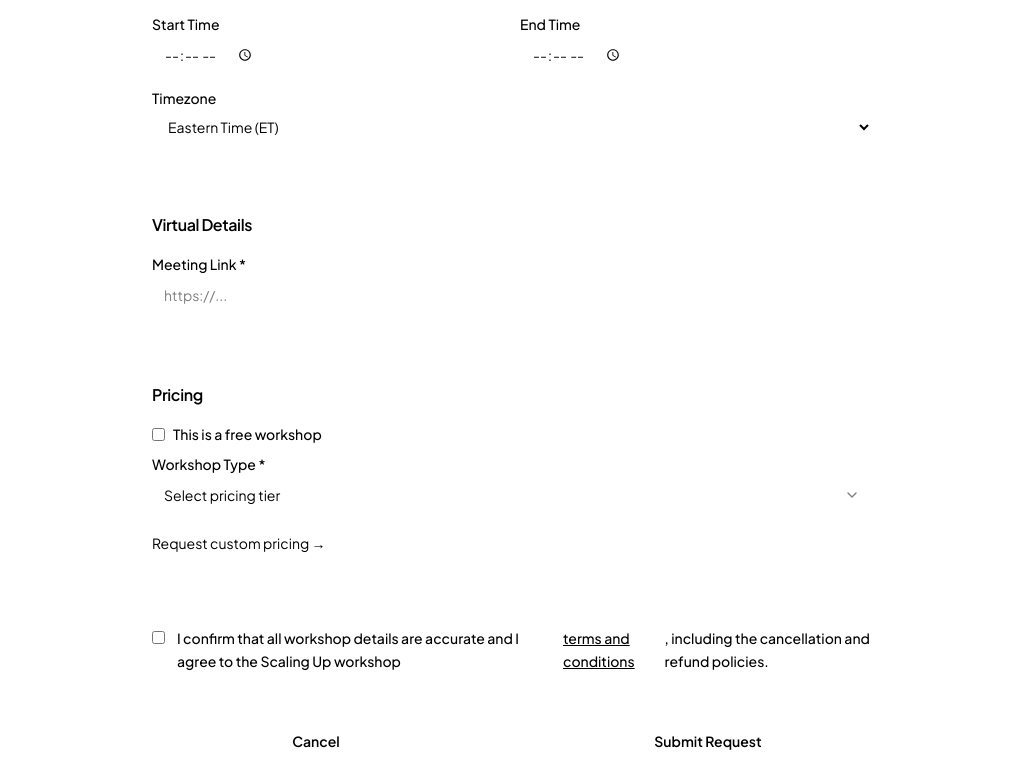
Test case: NewWorkshopForm — coach portal pricing visibility › reveals custom price fields when toggle is clicked
(page scrolled)
Click the button "Request custom pricing →" at (239, 543), box [152,533,326,553]
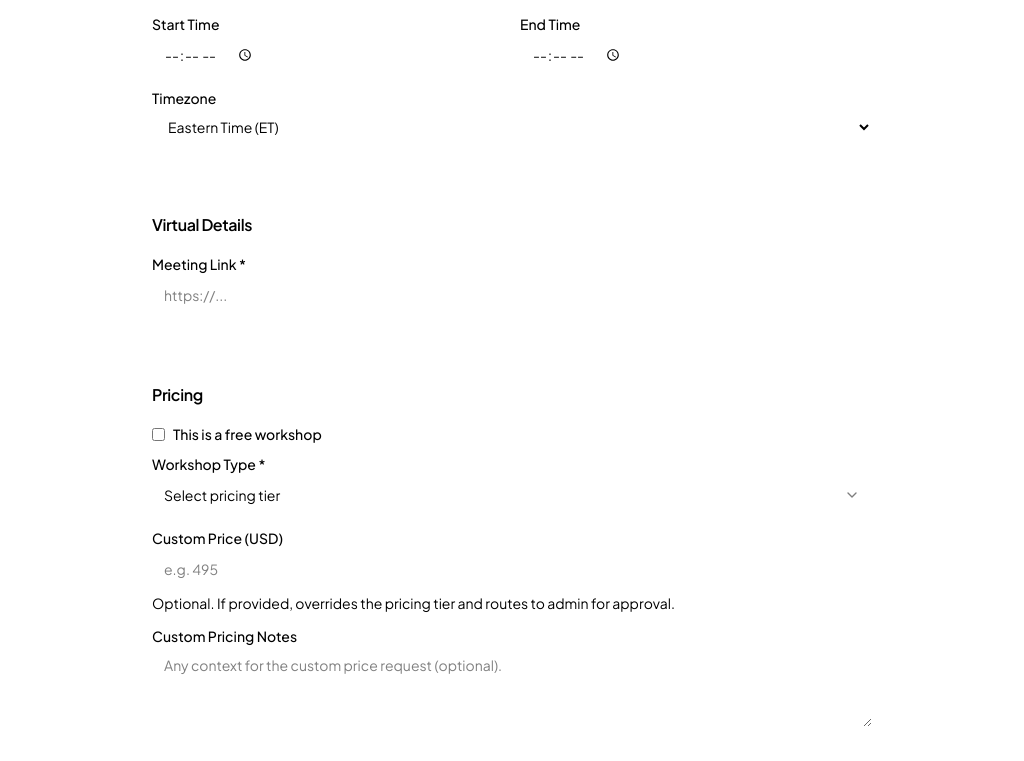
Check: the number field labelled "Custom Price (USD)" is shown, box [152,549,872,589]
Check: the text box labelled "Custom Pricing Notes" is shown, box [152,647,872,727]
